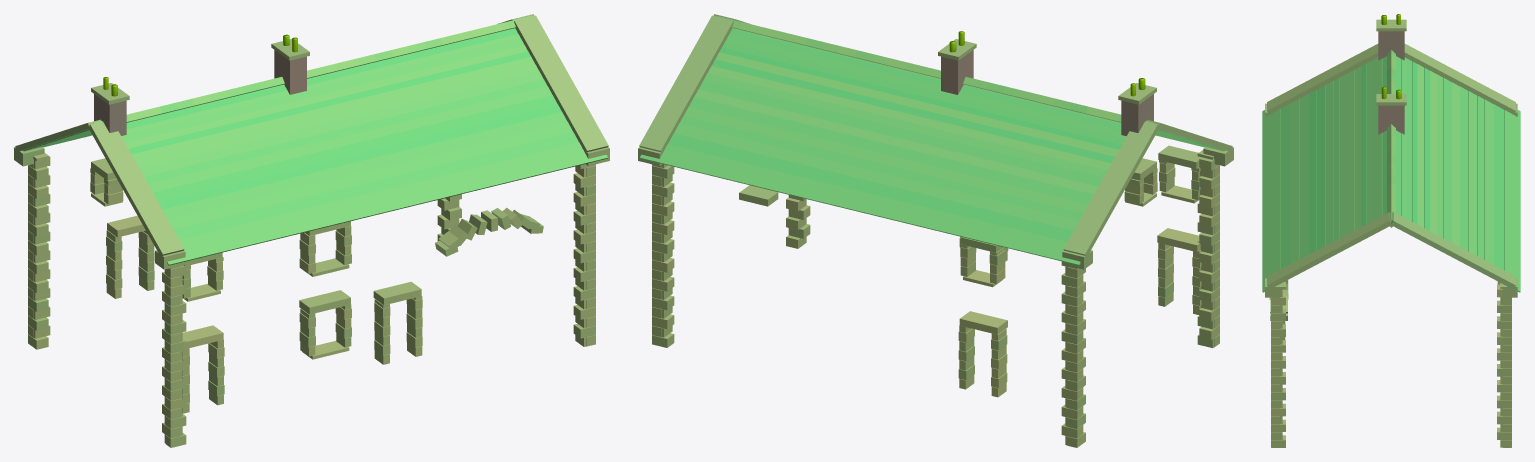
Rendered from SM_Bld_175_Stone.glb.
3 renders of one model, left to right at view 1: azimuth 30°, elevation 25°; view 2: azimuth 150°, elevation 25°; view 3: azimuth 270°, elevation 25°, orthographic. The views are drawn at different scales.
Visible parts, largest first — view 1: SM_Bld_175_Stone; view 2: SM_Bld_175_Stone; view 3: SM_Bld_175_Stone.
Boxes of the visible parts, x1,y1,x2,y2 form: SM_Bld_175_Stone: (14,14,609,447); SM_Bld_175_Stone: (638,14,1233,447); SM_Bld_175_Stone: (1262,14,1520,447).
Bounding box in the file's own units: 14.87 × 9.99 × 8.85.
